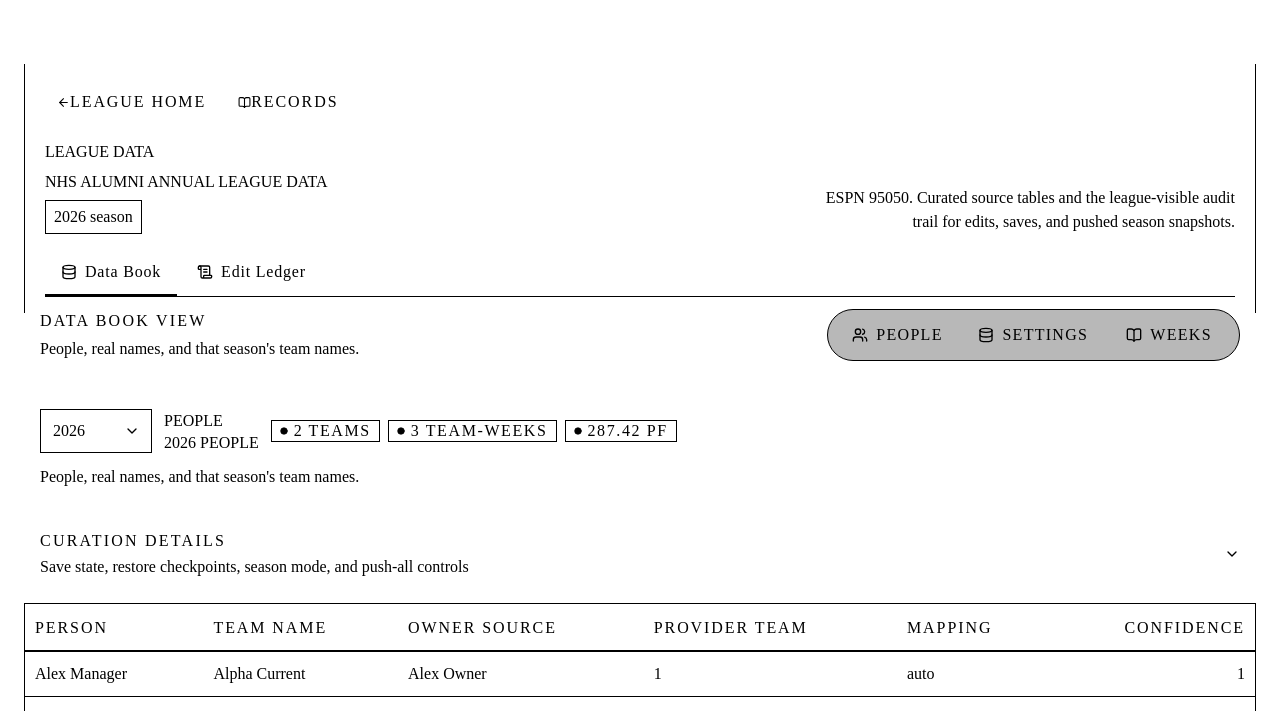
Scenario: Data Book year dropdown changes the displayed season
The image size is (1280, 711).
Select "2025" in the dropdown named "Data Book season" at coordinates (96, 431), box [40,409,152,453]
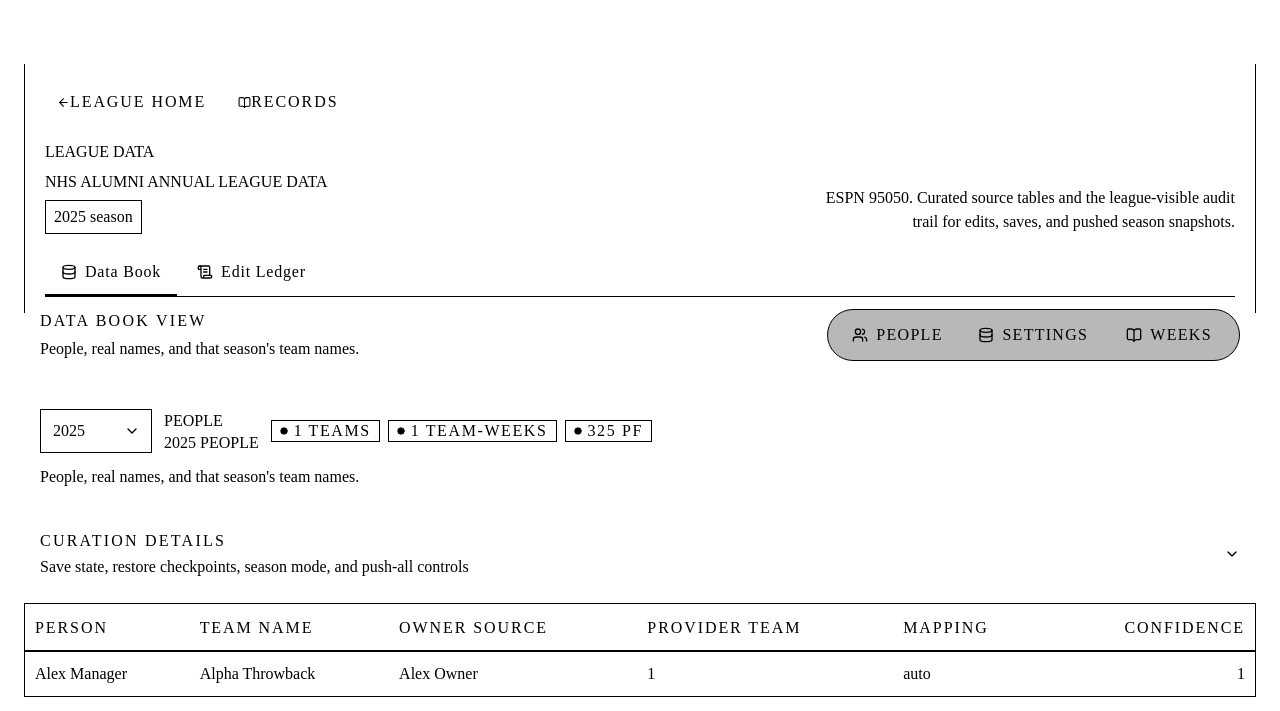
Now the table named "2025 Data Book people" is shown, box [25,604,1255,696]
Now the text "Alpha Throwback" is shown, box [200,665,315,682]
Now the text "Alpha Current" is gone
Click the radio button labelled "Settings".
click(1033, 334)  # box [978,326,1088,343]
(page scrolled)
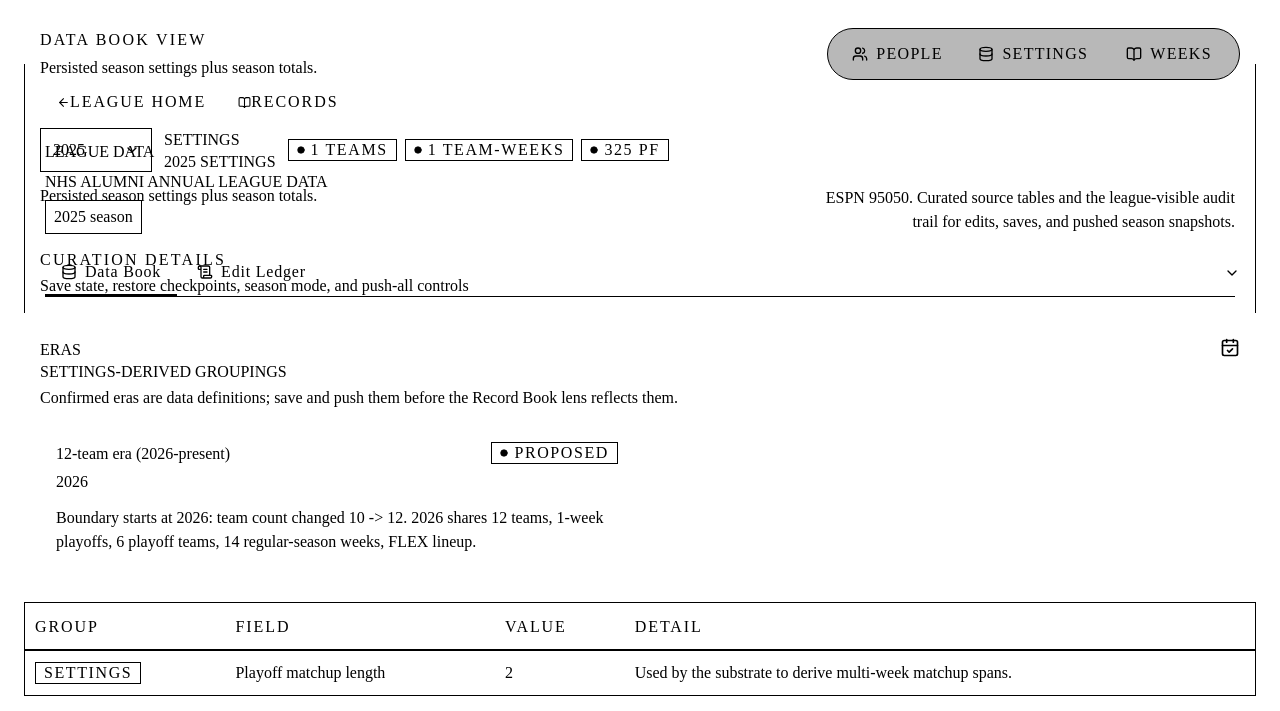
Now the text "Playoff matchup length" is shown, box [236,664,385,681]
